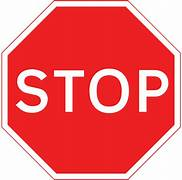stop: (1, 1, 177, 179)
